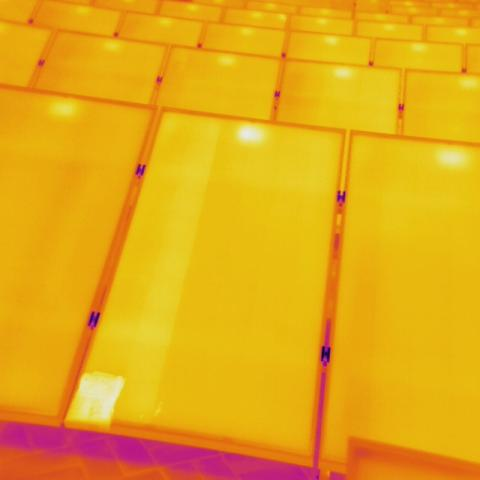fault: (62, 370, 124, 432), (234, 122, 265, 147)
